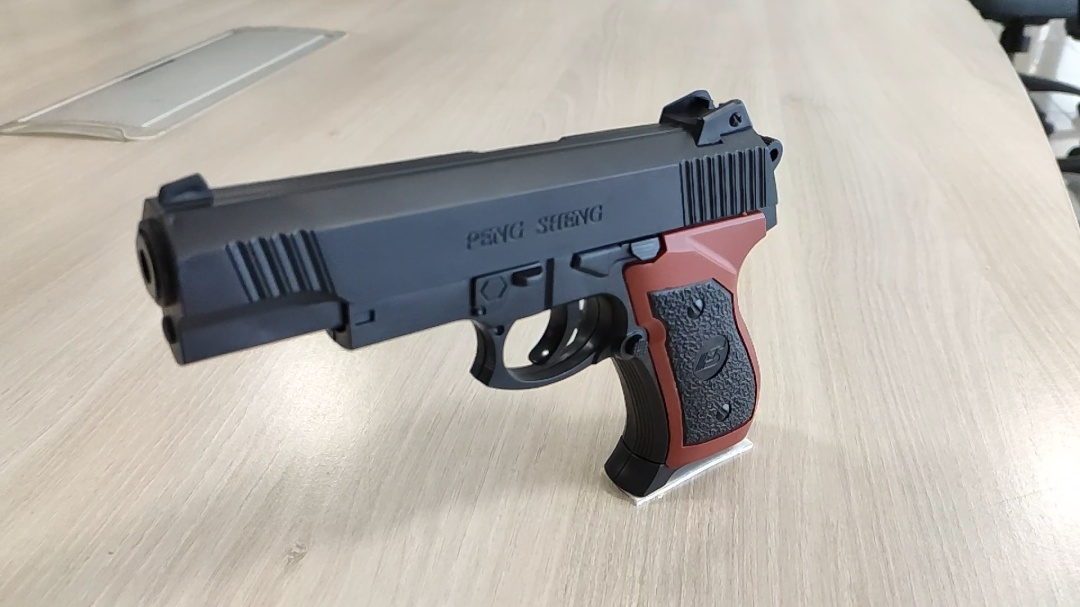gun: (136, 89, 783, 497)
